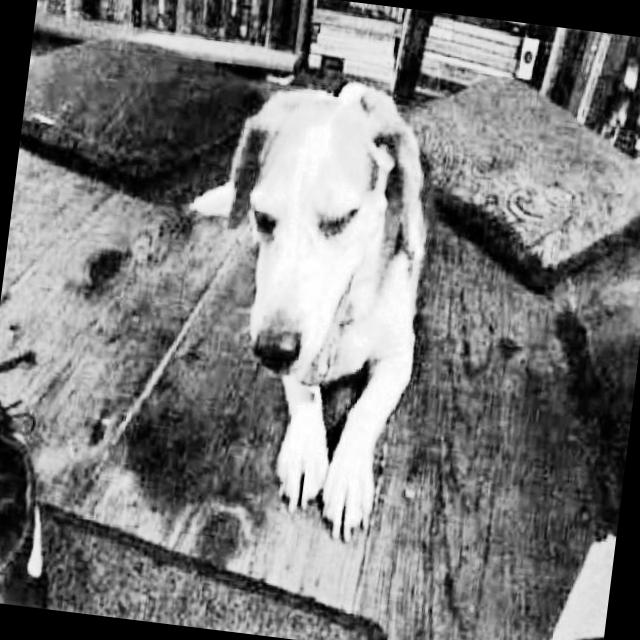Dog: (190, 66, 452, 544)
